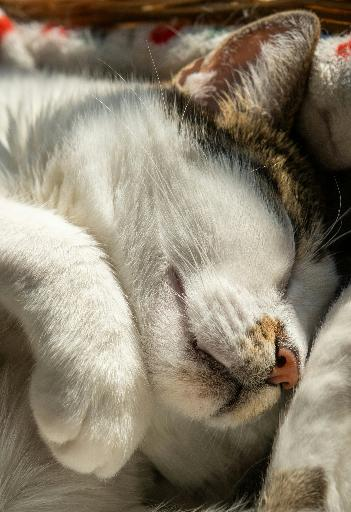cat_sleeping: (0, 11, 351, 512)
